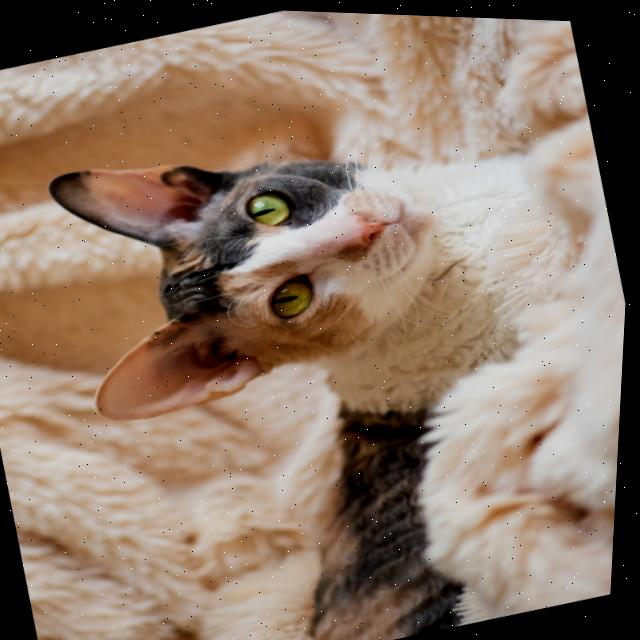Cornish Rex: (14, 45, 638, 640)
